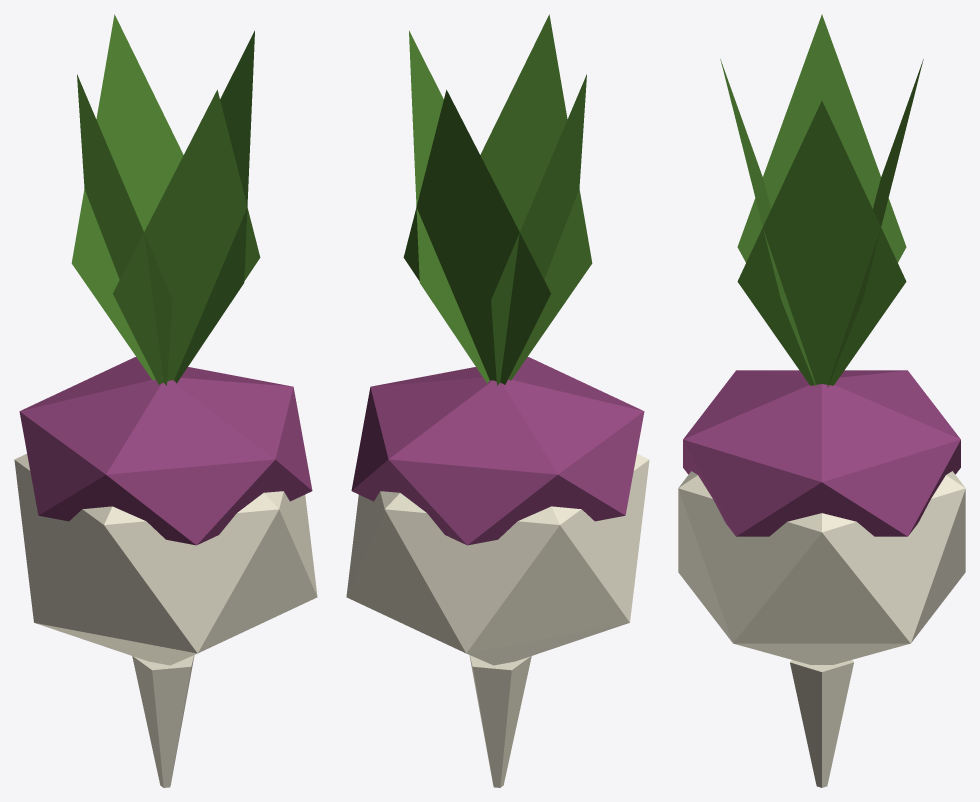
File: turnip.glb
3 renders of one model, left to right at view 1: azimuth 30°, elevation 25°; view 2: azimuth 150°, elevation 25°; view 3: azimuth 270°, elevation 25°, orthographic.
Visible parts, largest first — view 1: turnip; view 2: turnip; view 3: turnip.
Boxes of the visible parts, x1,y1,x2,y2 form: turnip: (14,14,317,787); turnip: (346,14,649,787); turnip: (678,14,965,787).
Size of the model in its own units: 0.1073 by 0.2852 by 0.1021.
